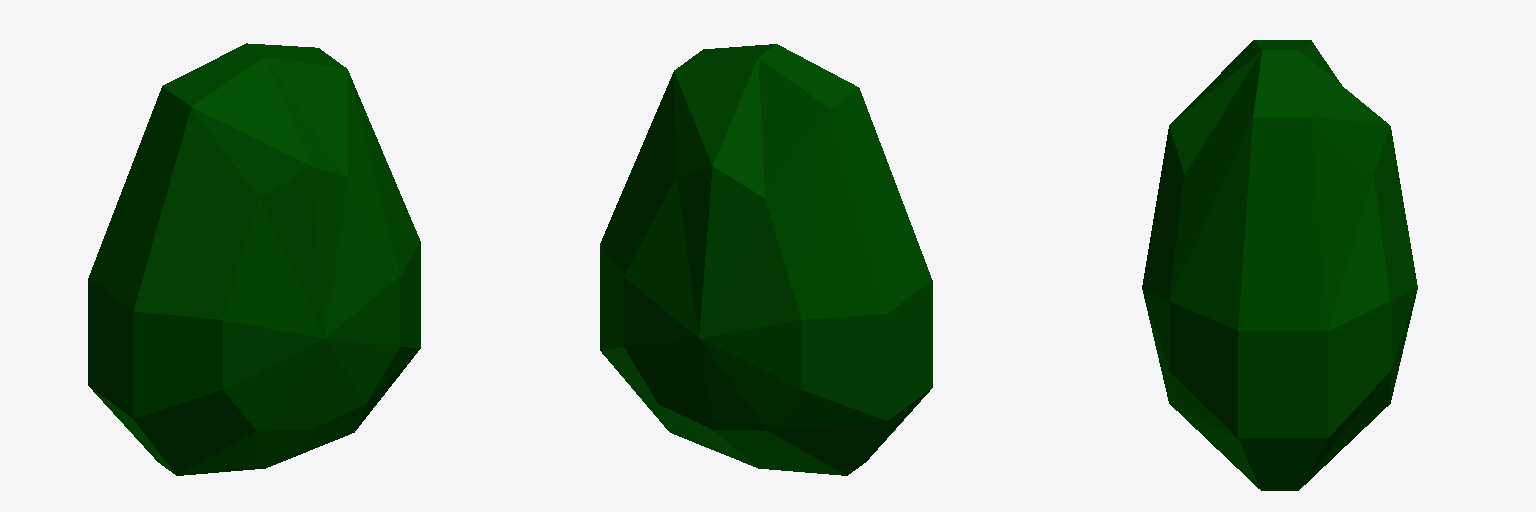
The model's file is avocado.obj.
3 views of the same model, side by side, from view 1: azimuth 30°, elevation 25°; view 2: azimuth 150°, elevation 25°; view 3: azimuth 270°, elevation 25° (orthographic).
Parts seen in each view (by area): view 1: Sphere001; view 2: Sphere001; view 3: Sphere001.
Part boxes in pixels (x1,y1,x2,y2): Sphere001: (88, 43, 420, 475); Sphere001: (600, 44, 932, 475); Sphere001: (1142, 40, 1417, 490).
Size of the model in its own units: 17.81 by 24.35 by 14.81.